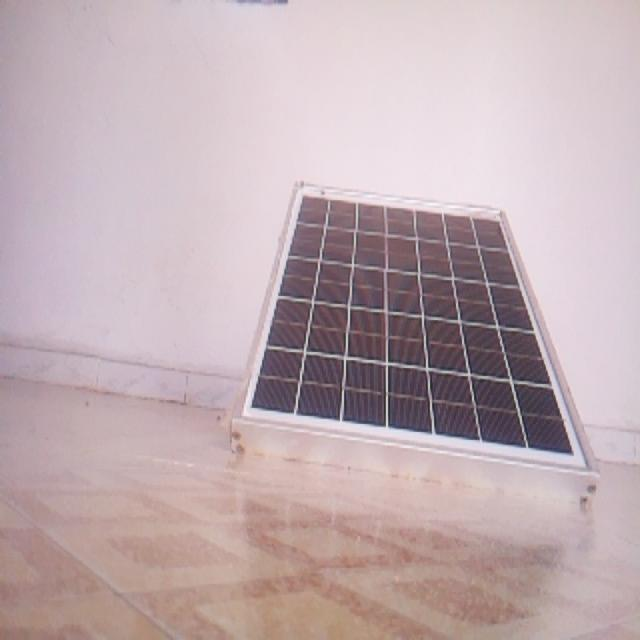Normal Solar Panel: (232, 183, 600, 507)
